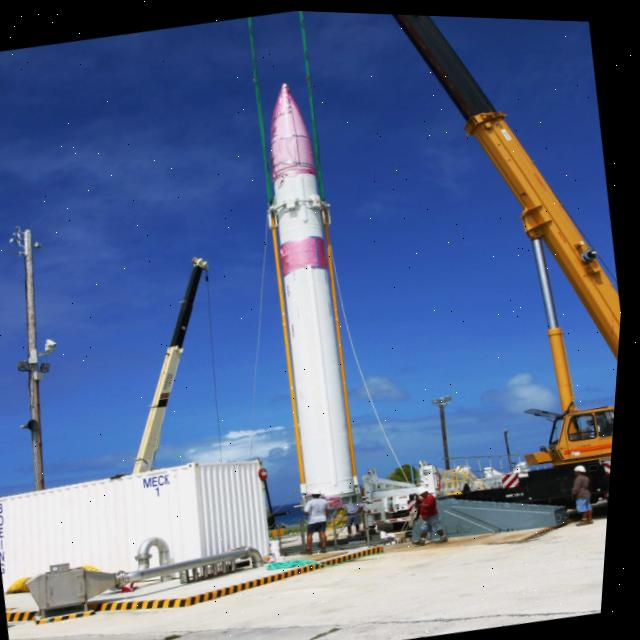missile: (227, 71, 407, 521)
